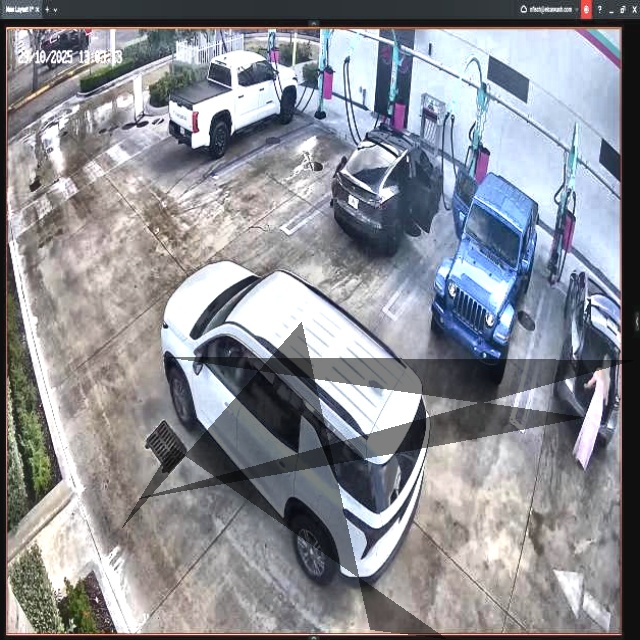Car: (161, 262, 431, 585), (433, 168, 537, 378), (170, 52, 299, 159), (335, 126, 443, 248)
